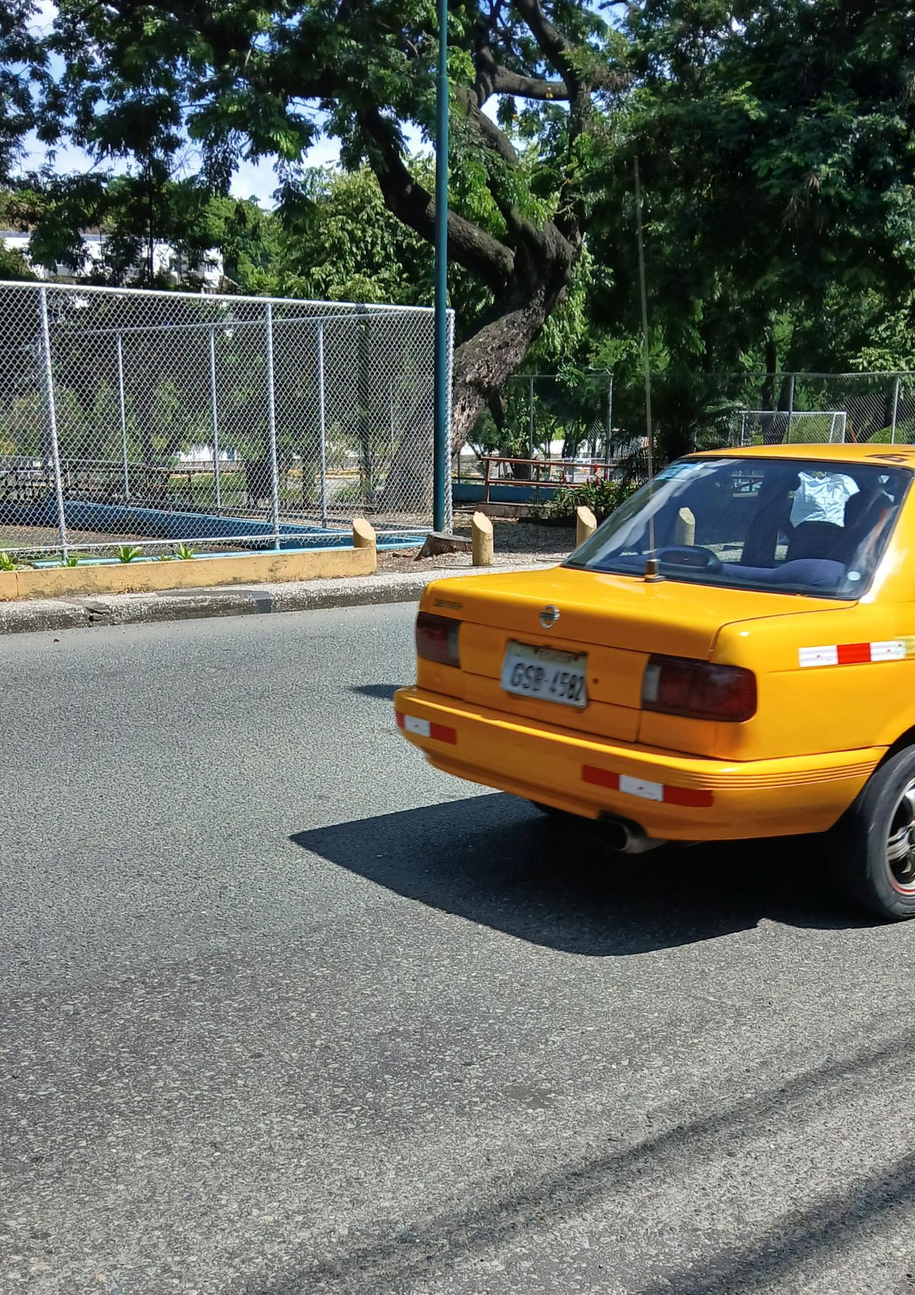license_plate: (499, 640, 588, 709)
